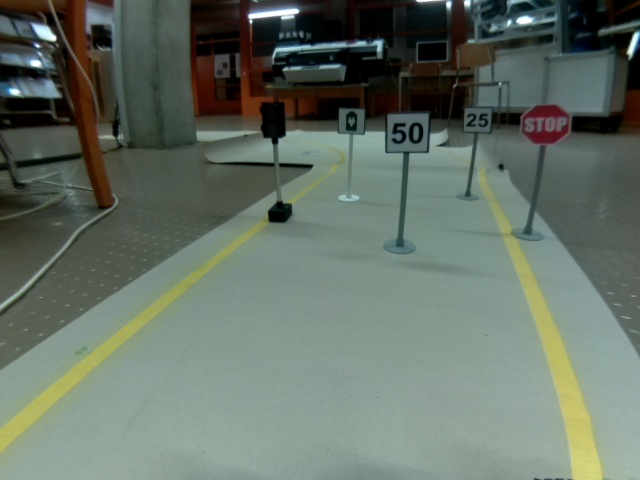battery: (337, 106, 366, 136)
speed25: (463, 106, 492, 133)
speed50: (385, 111, 431, 153)
stop: (520, 103, 571, 146)
trafficLightOff: (260, 101, 286, 138)
